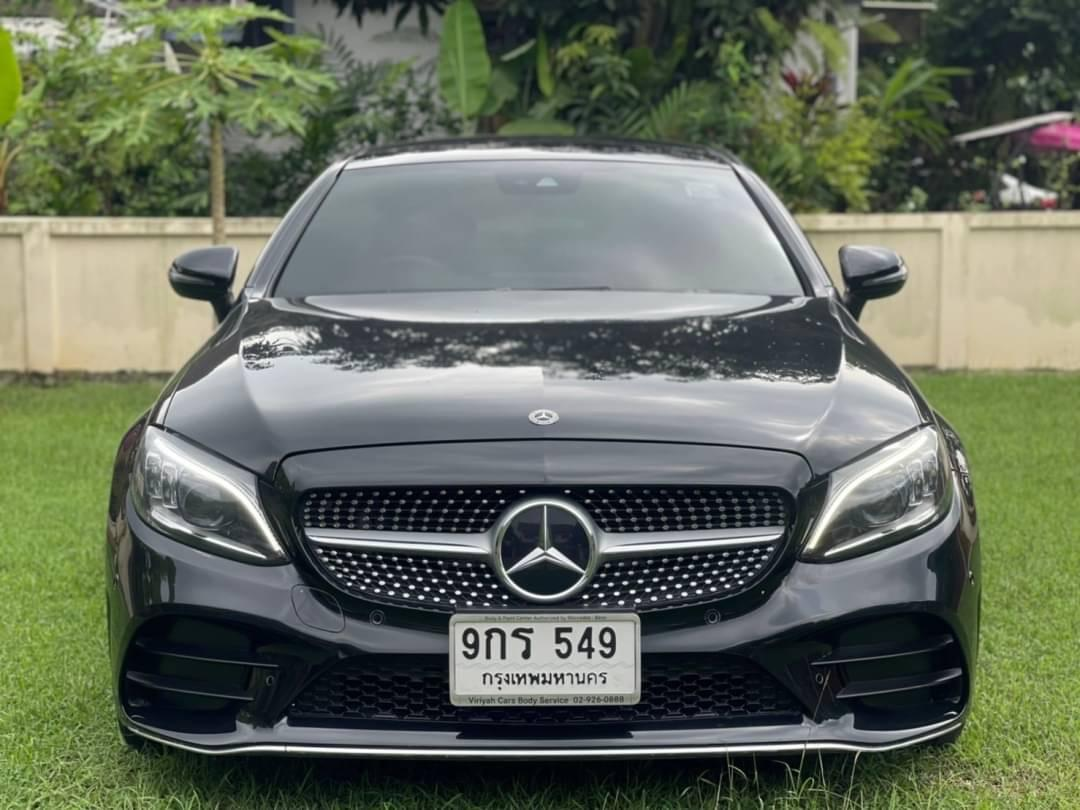license-plate: (445, 608, 641, 707)
